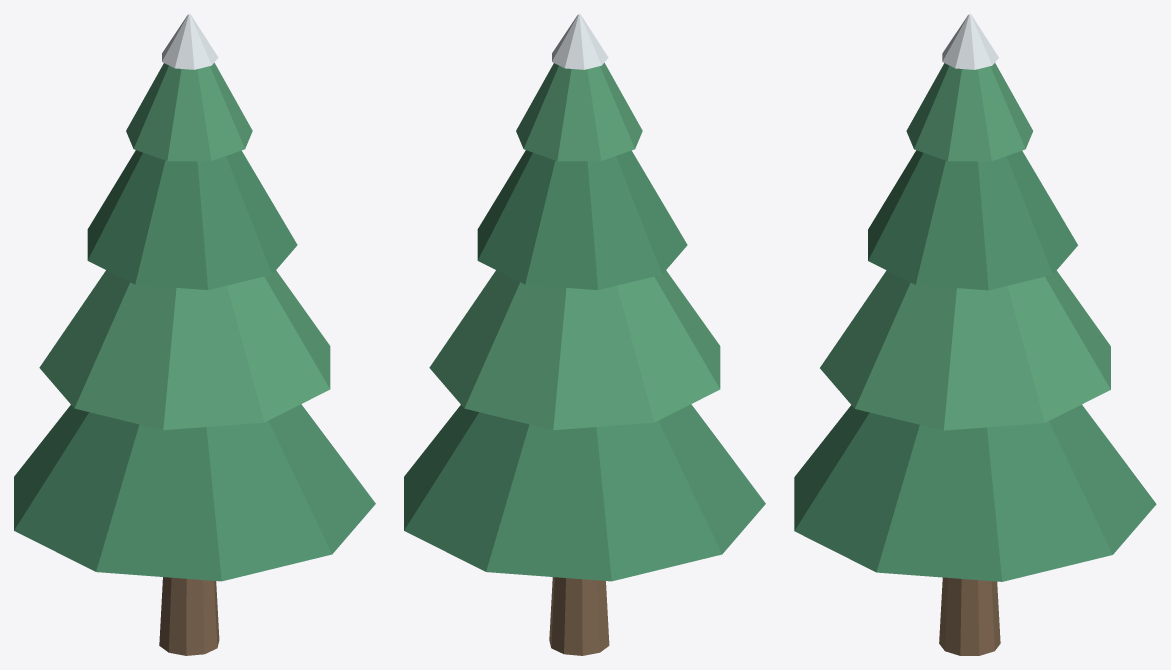
Rendered from pine_tree.glb.
3 renders of one model, left to right at view 1: azimuth 30°, elevation 25°; view 2: azimuth 150°, elevation 25°; view 3: azimuth 270°, elevation 25°, orthographic.
Parts seen in each view (by area): view 1: Tier1, Tier2, Tier3, Tier4, Trunk, CrownDust; view 2: Tier1, Tier2, Tier3, Tier4, Trunk, CrownDust; view 3: Tier1, Tier2, Tier3, Tier4, Trunk, CrownDust.
Part boxes in pixels (x1,y1,x2,y2): Tier1: [14, 404, 375, 581]; Tier2: [39, 270, 330, 430]; Tier3: [87, 150, 297, 289]; Tier4: [126, 63, 252, 161]; Trunk: [159, 577, 219, 655]; CrownDust: [162, 14, 218, 69]; Tier1: [404, 404, 765, 581]; Tier2: [429, 270, 720, 430]; Tier3: [477, 150, 687, 289]; Tier4: [516, 63, 642, 161]; Trunk: [549, 577, 609, 655]; CrownDust: [552, 14, 608, 69]; Tier1: [794, 404, 1156, 581]; Tier2: [820, 270, 1110, 430]; Tier3: [868, 150, 1077, 290]; Tier4: [906, 63, 1032, 161]; Trunk: [939, 577, 1000, 655]; CrownDust: [942, 14, 998, 69].
Bounding box in the file's own units: 5.02 × 9.47 × 4.95.
